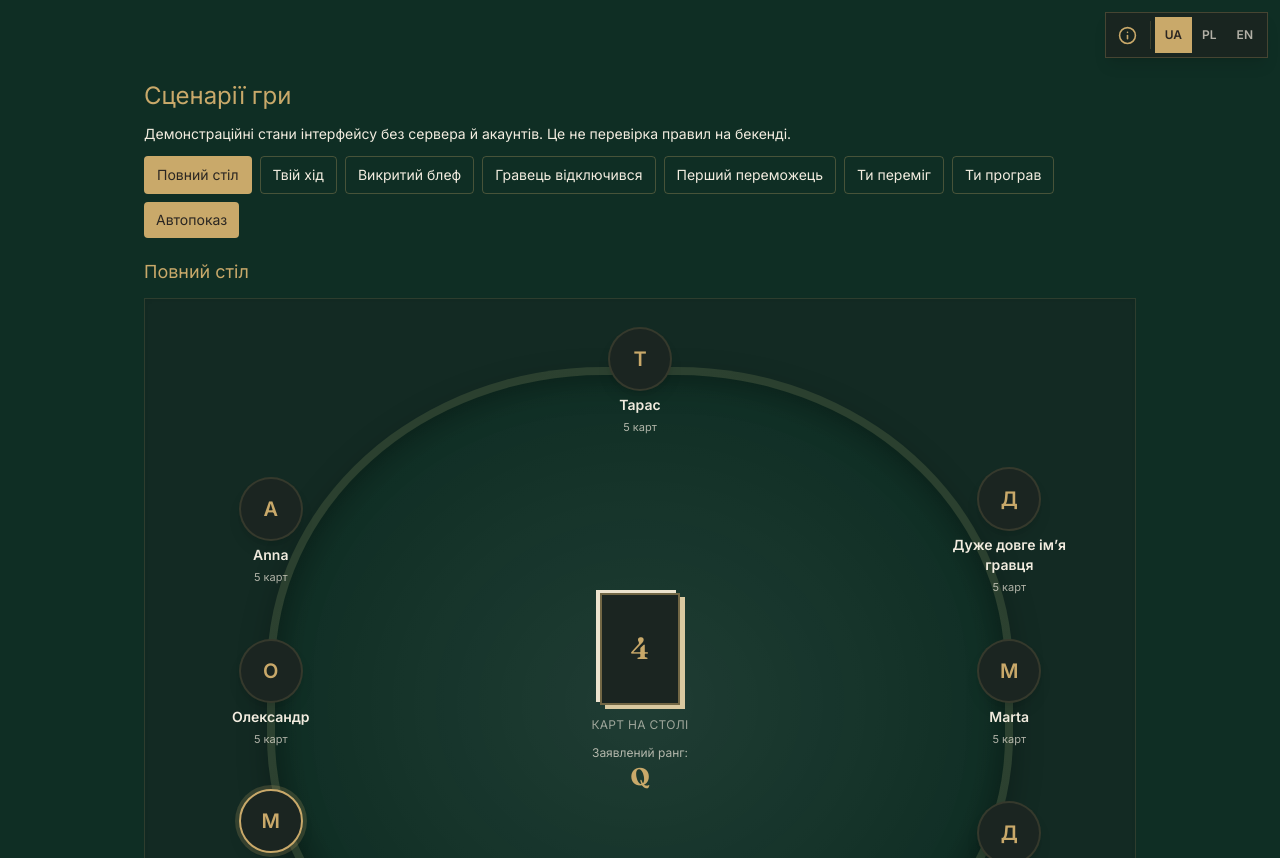
Test: Сценарії ігрового столу › shows your victory
This screenshot has width=1280, height=858.
expect the heading "Сценарії гри" is shown: met, box [144,81,291,110]
Click the button "Ти переміг" at (894, 175), box [844,156,944,194]
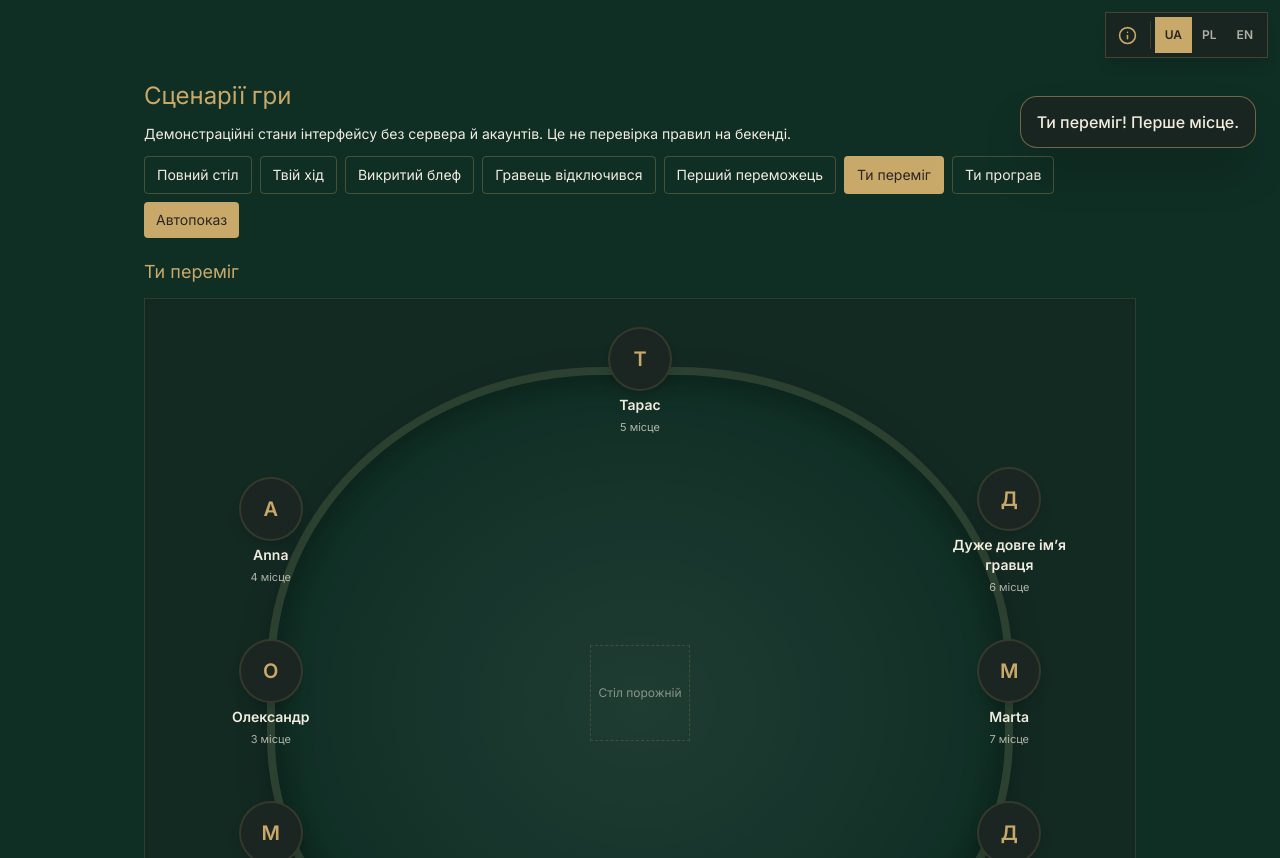
expect the text "Ти переміг! Перше місце." is shown: met, box [1037,109,1239,135]
